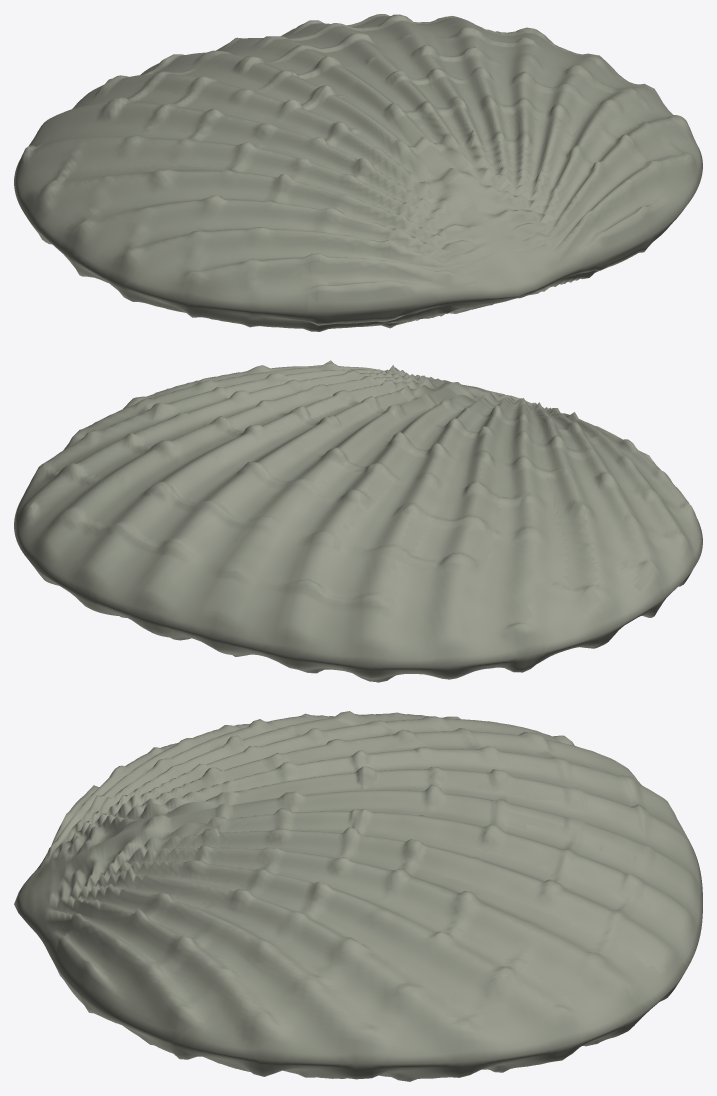
3 renders of one model, top to bottom at view 1: azimuth 30°, elevation 25°; view 2: azimuth 150°, elevation 25°; view 3: azimuth 270°, elevation 25°, orthographic. The views are drawn at different scales.
Visible parts, largest first — view 1: Spinatrypa spinosa — PRI109509 fossil study; view 2: Spinatrypa spinosa — PRI109509 fossil study; view 3: Spinatrypa spinosa — PRI109509 fossil study.
Boxes of the visible parts, x1=… form: Spinatrypa spinosa — PRI109509 fossil study: x1=14, y1=14, x2=702, y2=331; Spinatrypa spinosa — PRI109509 fossil study: x1=14, y1=360, x2=702, y2=682; Spinatrypa spinosa — PRI109509 fossil study: x1=14, y1=711, x2=702, y2=1081.
Bounding box in the file's own units: 1 × 0.2899 × 0.895.
1 material, 1 textured.
